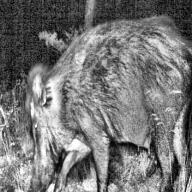boar: (27, 9, 192, 192)
